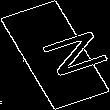N_SW: (13, 27, 97, 83)
